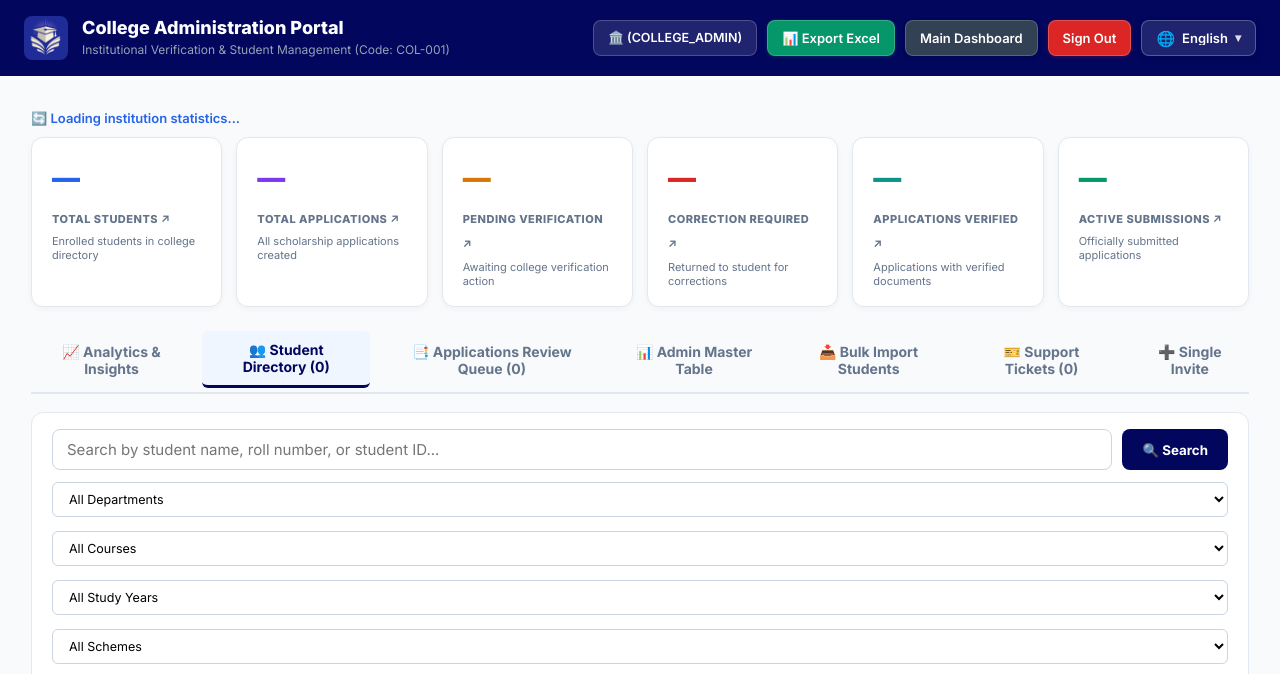
Scenario: CollegeDashboard UI & Chart Usability Enhancements › 3. Renders readable application-stage labels and outside values with 0 applications for zero count
What coordinates should you click on to do the following:
click the button "📈 Analytics & Insights"
I would click on:
 (112, 360)
Its box is [31,331,192,388].
(page scrolled)
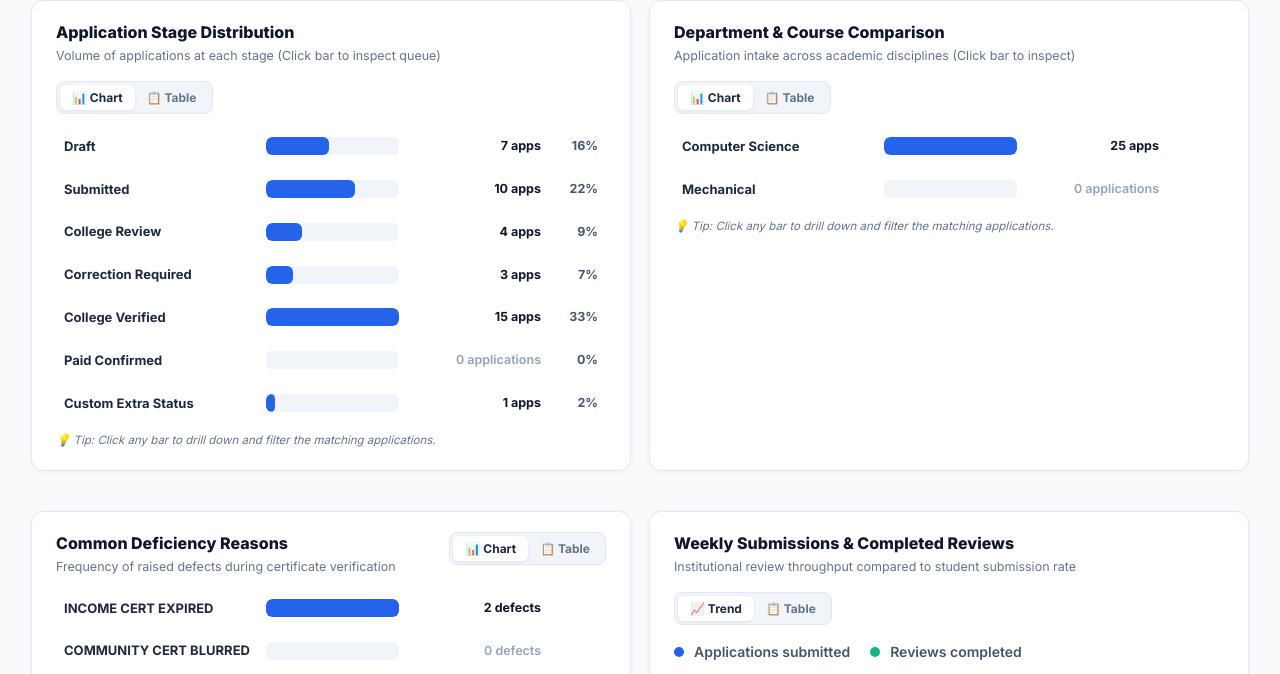
expect the text "Draft" is shown: met, box [64,138,96,154]
expect the text "College Review" is shown: met, box [64,223,161,239]
expect the text "Correction Required" is shown: met, box [64,266,192,282]
